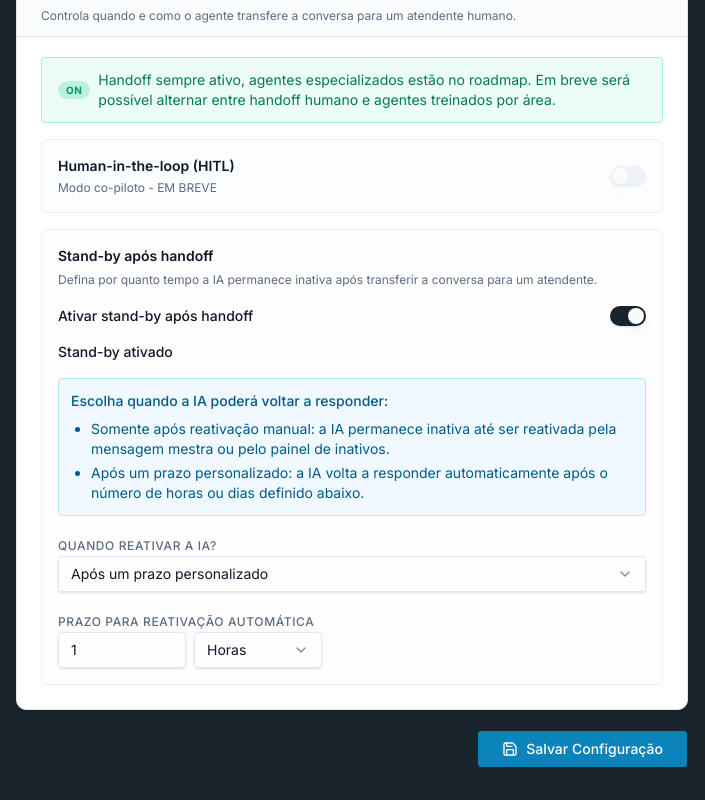
<ClinicConfig /> handoff stand-by › blocks PATCH for invalid custom value  in hours
The image size is (705, 800).
(page scrolled)
Expected: the element with test id "handoff-standby-settings" is shown, [41,229,663,684]
Clear the number field at (122, 650), box [58,632,186,668]
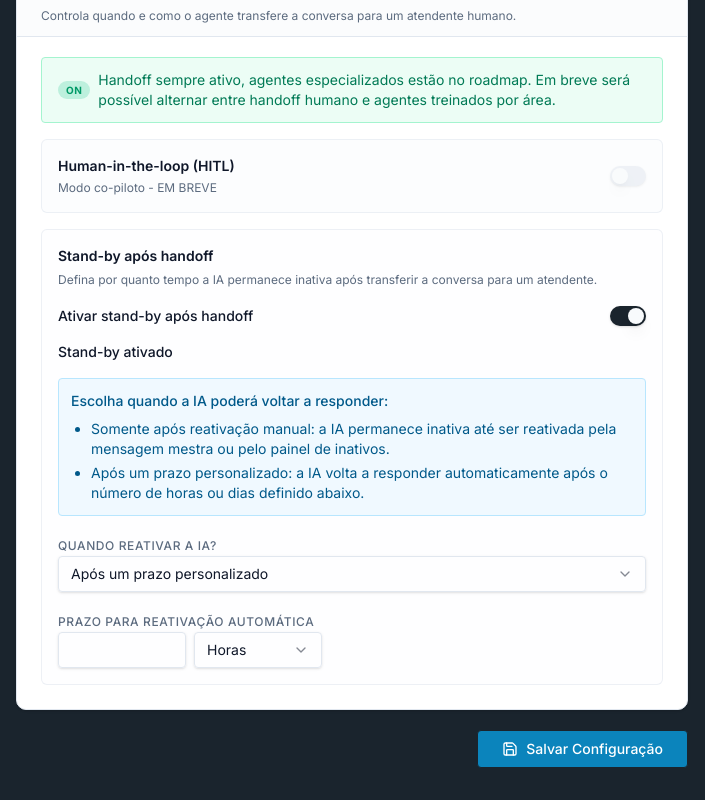
Click the button with test id "btn-save-config" at (583, 748), box [477,730,688,768]
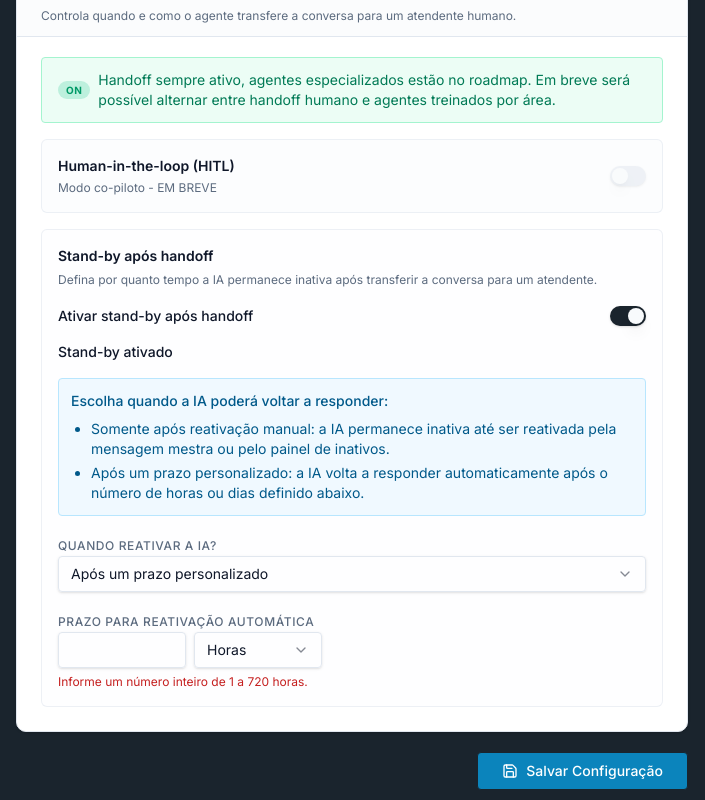
Expected: the message reads "Informe um número inteiro de 1 a 720 horas.", [58,674,308,688]
